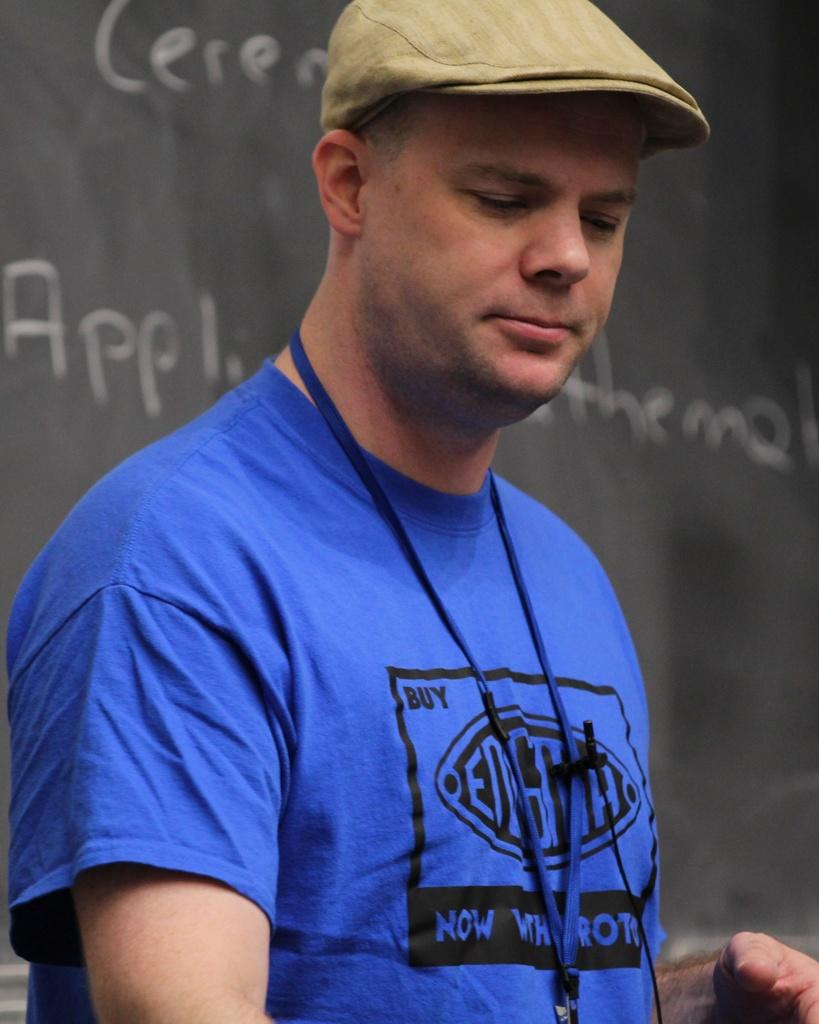Hat: (318, 0, 712, 140)
